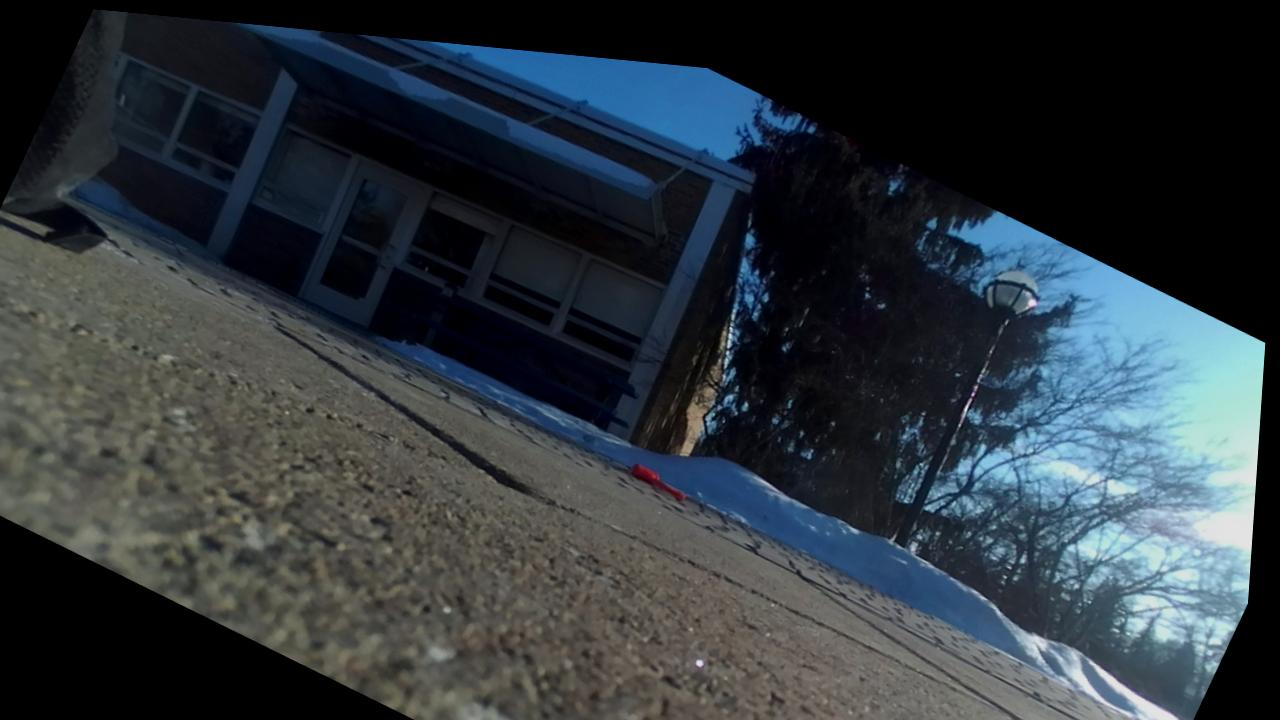mallet: (630, 464, 682, 501)
